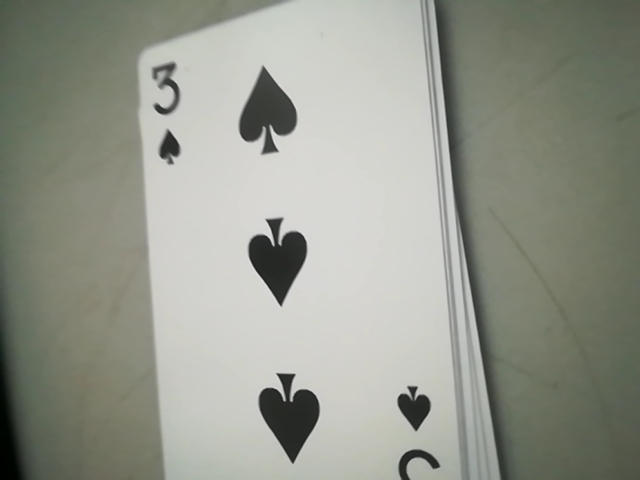ht 3: (136, 55, 205, 174)
